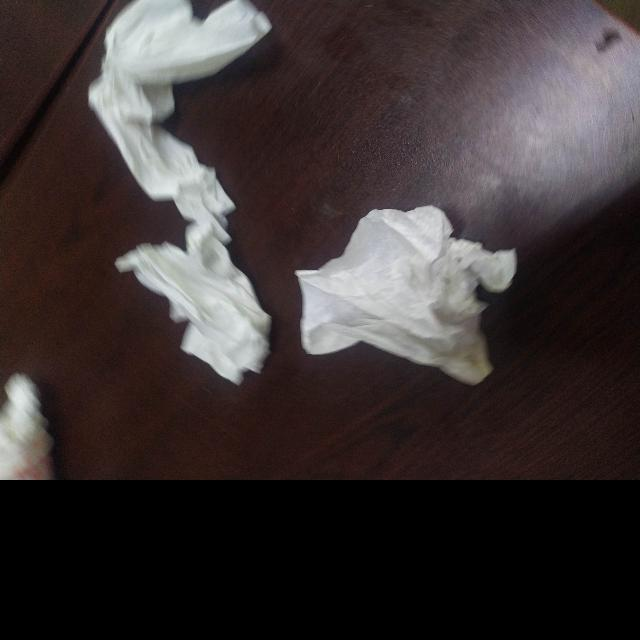kitchen paper: (84, 0, 295, 392), (286, 204, 519, 392), (1, 368, 60, 482)
